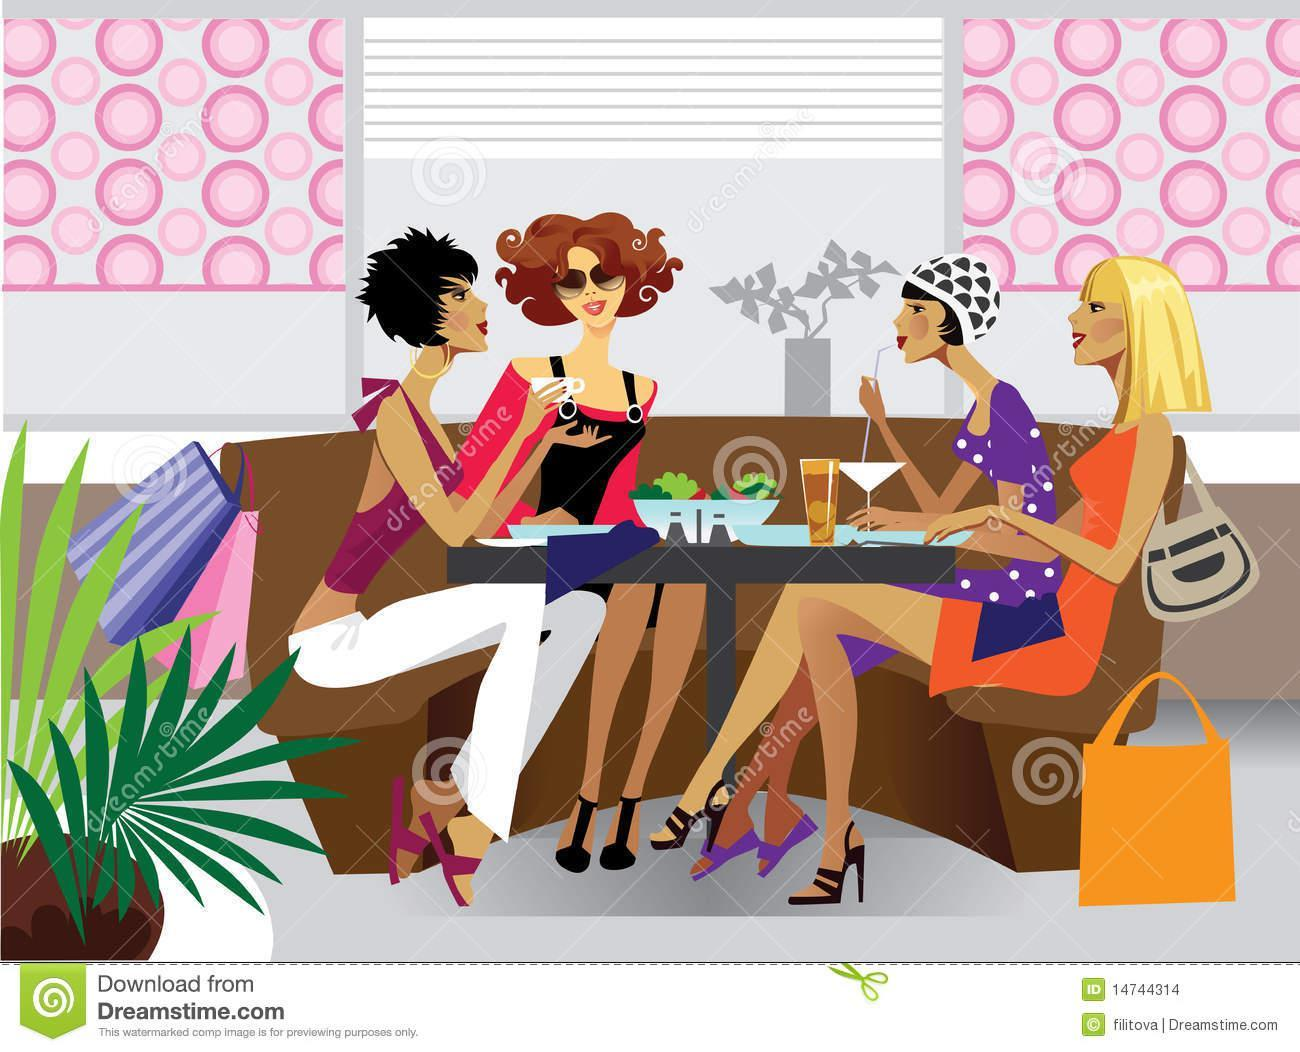person: (646, 253, 1229, 915), (696, 253, 1061, 882), (284, 235, 602, 909), (465, 210, 715, 877)
pottedplant: (1, 426, 341, 957)
sofa: (211, 426, 1188, 883)
